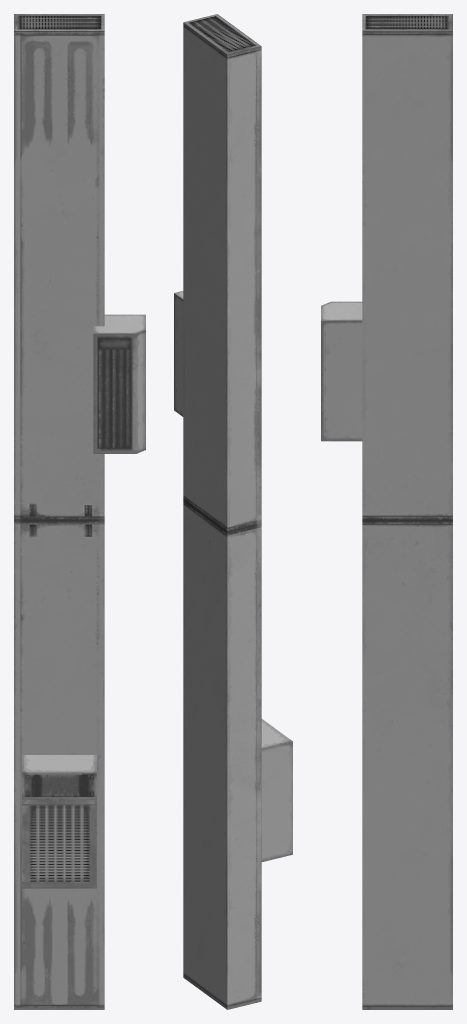
Rendered from CP_Ventilation_Pipe_4m_02.fbx.
The picture shows the model from 3 angles, left to right: view 1: azimuth 90°, elevation 25°; view 2: azimuth 210°, elevation 25°; view 3: azimuth 270°, elevation 25°; orthographic projection. The views are drawn at different scales.
Parts seen in each view (by area): view 1: CP_Ventilation_Pipe_4m_02; view 2: CP_Ventilation_Pipe_4m_02; view 3: CP_Ventilation_Pipe_4m_02.
Part boxes in pixels (bbox=[...]): CP_Ventilation_Pipe_4m_02: bbox=[14, 14, 145, 1009]; CP_Ventilation_Pipe_4m_02: bbox=[174, 14, 292, 1009]; CP_Ventilation_Pipe_4m_02: bbox=[321, 14, 452, 1009].
Size of the model in its own units: 30.34 by 400 by 48.8.
